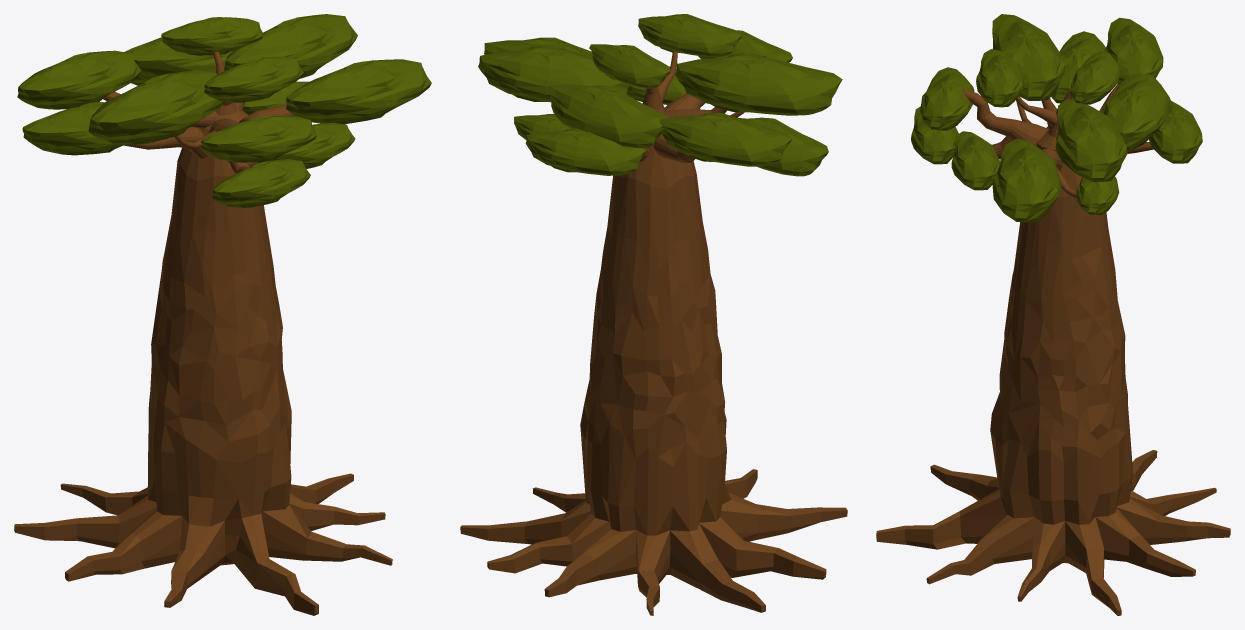
The model's file is Baobab Tree3.fbx.
The picture shows the model from 3 angles, left to right: view 1: azimuth 30°, elevation 25°; view 2: azimuth 150°, elevation 25°; view 3: azimuth 270°, elevation 25°; orthographic projection. The views are drawn at different scales.
Visible parts, largest first — view 1: Baobab 3; view 2: Baobab 3; view 3: Baobab 3.
Part boxes in pixels (x1,y1,x2,y2): Baobab 3: [14, 14, 431, 615]; Baobab 3: [460, 14, 847, 615]; Baobab 3: [876, 14, 1230, 615].
Bounding box in the file's own units: 2023 × 2689 × 1758.
Materials: 1 (1 with a texture image).
